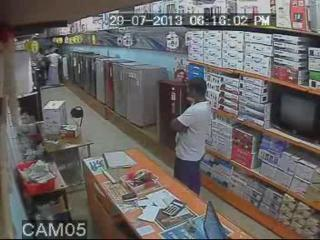Normal: (169, 77, 212, 196), (269, 86, 320, 146)
